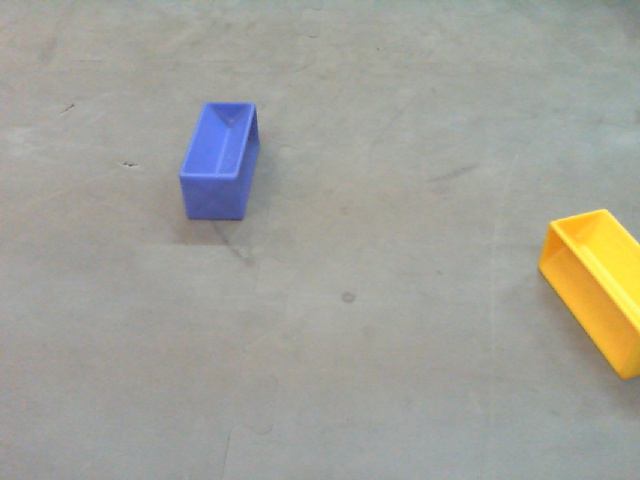BlueSample: (175, 99, 269, 222)
YellowSample: (532, 199, 640, 381)
